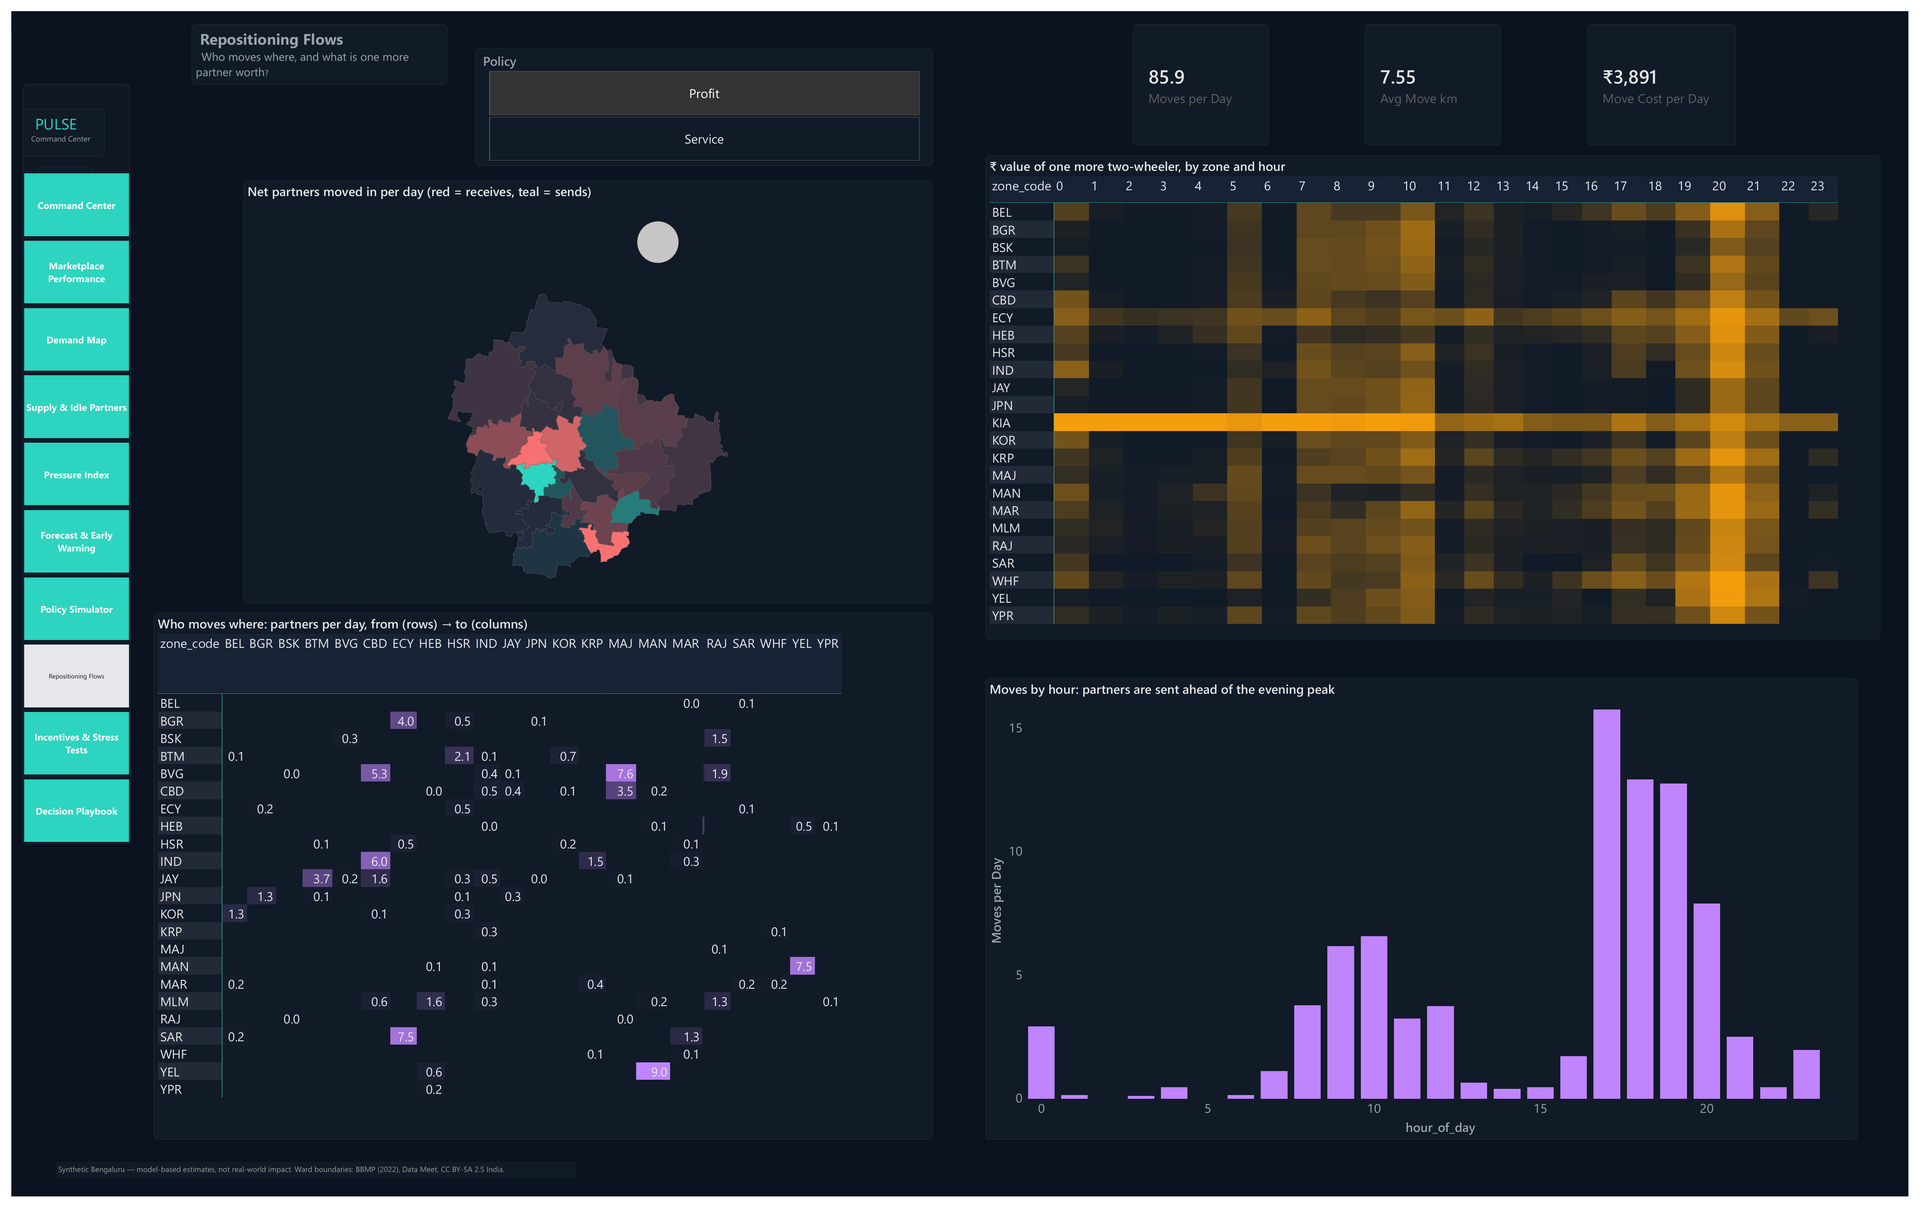

Layout of this report page (visuals, bound fields, positions):
{"tool":"powerbi","page":{"name":"Repositioning Flows","canvas":[4000,2500],"ordinal":7},"visuals":[{"type":"shape","box":[23.6,153.2,226.9,1603],"z":0},{"type":"textbox","box":[23.6,206.3,173.9,100.2],"z":1000},{"type":"pageNavigator","box":[53,327.1,117.9,29.5],"z":2000},{"type":"textbox","box":[380,27.1,538.9,127.9],"z":3000},{"type":"textbox","box":[94.3,2427.1,1097.8,34.3],"z":4000},{"type":"slicer","fields":{"Values":["Dim_Scenario.scenario_short"]},"box":[977.7,77.2,964.8,248.7],"z":5000},{"type":"pivotTable","title":"Who moves where: partners per day, from (rows) → to (columns)","fields":{"Rows":["Dim_Zone.zone_code"],"Columns":["Dim_Destination_Zone.dest_zone_code"],"Values":["_Measures.Moves per Day"]},"box":[300.2,1269.3,1642.4,1110.6],"z":6000},{"type":"shapeMap","title":"Net partners moved in per day (red = receives, teal = sends)","fields":{"Category":["Dim_Zone.zone_code"],"Value":["_Measures.Net Partners Moved In per Day"]},"box":[488.5,356.7,1453.9,891.8],"z":7000},{"type":"clusteredColumnChart","title":"Moves by hour: partners are sent ahead of the evening peak","fields":{"Category":["Dim_Time.hour_of_day"],"Y":["_Measures.Moves per Day"]},"box":[2054,1406.5,1839.6,973.4],"z":8000},{"type":"pivotTable","title":"₹ value of one more two-wheeler, by zone and hour","fields":{"Rows":["Dim_Zone.zone_code"],"Columns":["Dim_Time.hour_of_day"],"Values":["_Measures.Value of One More Two-Wheeler"]},"box":[2054,304.5,1886.8,1020.6],"z":9000},{"type":"cardVisual","fields":{"Data":["_Measures.Moves per Day"]},"box":[2365.1,27.1,286.9,255.9],"z":11000},{"type":"cardVisual","fields":{"Data":["_Measures.Avg Move km"]},"box":[2853.6,27.1,286.9,255.9],"z":12000},{"type":"cardVisual","fields":{"Data":["_Measures.Move Cost per Day"]},"box":[3322.8,27.1,314.1,255.9],"z":13000},{"type":"pageNavigator","box":[22.5,337.8,229.7,1418.9],"z":14000}]}

Visuals, with their boxes on the page's 4000x2500 design canvas (x1, y1, x2, y2). These are canvas units, not pixel positions in the 1920x1208 screenshot, which may show the page scaled, cropped or inside an application window:
shape: (24,153,250,1756)
textbox: (24,206,198,306)
pageNavigator: (53,327,171,357)
textbox: (380,27,919,155)
textbox: (94,2427,1192,2461)
slicer - Dim_Scenario.scenario_short: (978,77,1942,326)
"Who moves where: partners per day, from (rows) → to (columns)" pivotTable: (300,1269,1943,2380)
"Net partners moved in per day (red = receives, teal = sends)" shapeMap: (488,357,1942,1248)
"Moves by hour: partners are sent ahead of the evening peak" clusteredColumnChart: (2054,1406,3894,2380)
"₹ value of one more two-wheeler, by zone and hour" pivotTable: (2054,304,3941,1325)
cardVisual - _Measures.Moves per Day: (2365,27,2652,283)
cardVisual - _Measures.Avg Move km: (2854,27,3140,283)
cardVisual - _Measures.Move Cost per Day: (3323,27,3637,283)
pageNavigator: (22,338,252,1757)
